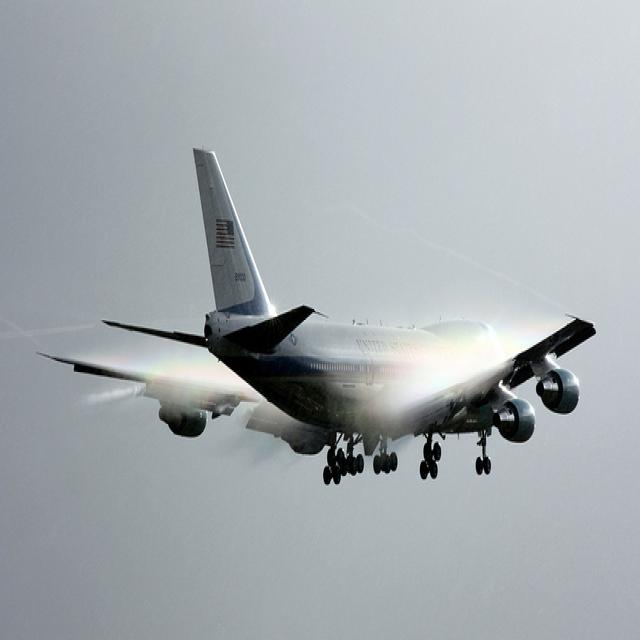airplane: (32, 143, 599, 488)
